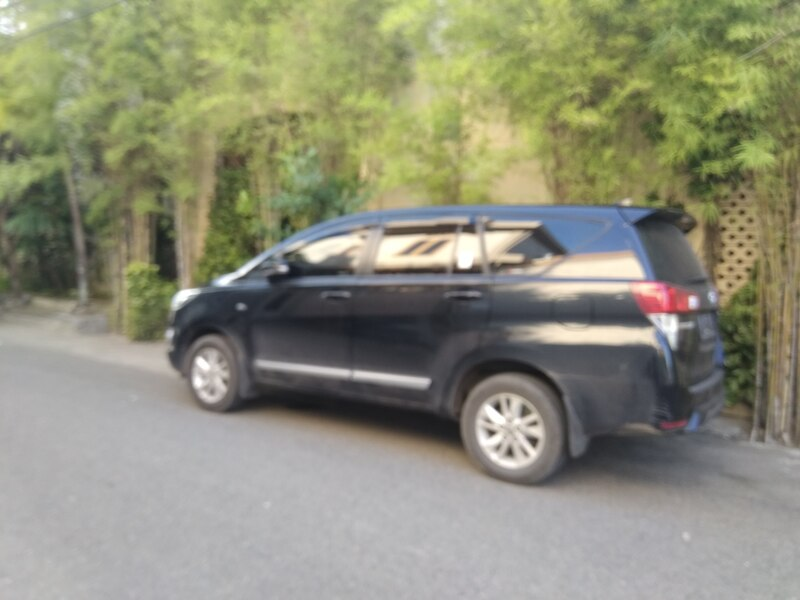car: (159, 198, 736, 495)
